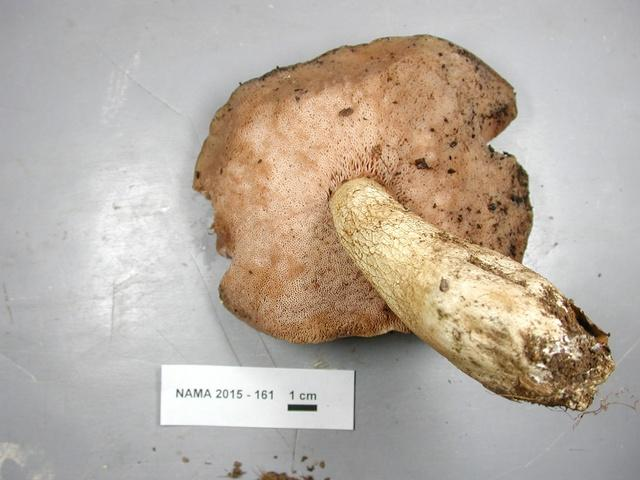Non-edible Mushroom: (198, 32, 616, 412)
